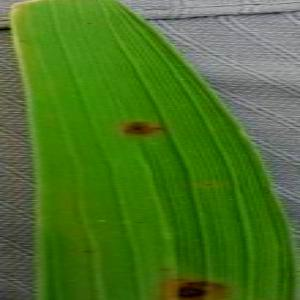0 BrownSpot: (116, 114, 171, 141), (170, 283, 210, 300), (191, 275, 228, 293), (79, 245, 100, 258), (198, 179, 216, 191), (131, 217, 149, 229), (82, 17, 97, 28), (156, 266, 174, 274), (171, 276, 188, 284), (15, 37, 29, 46)
